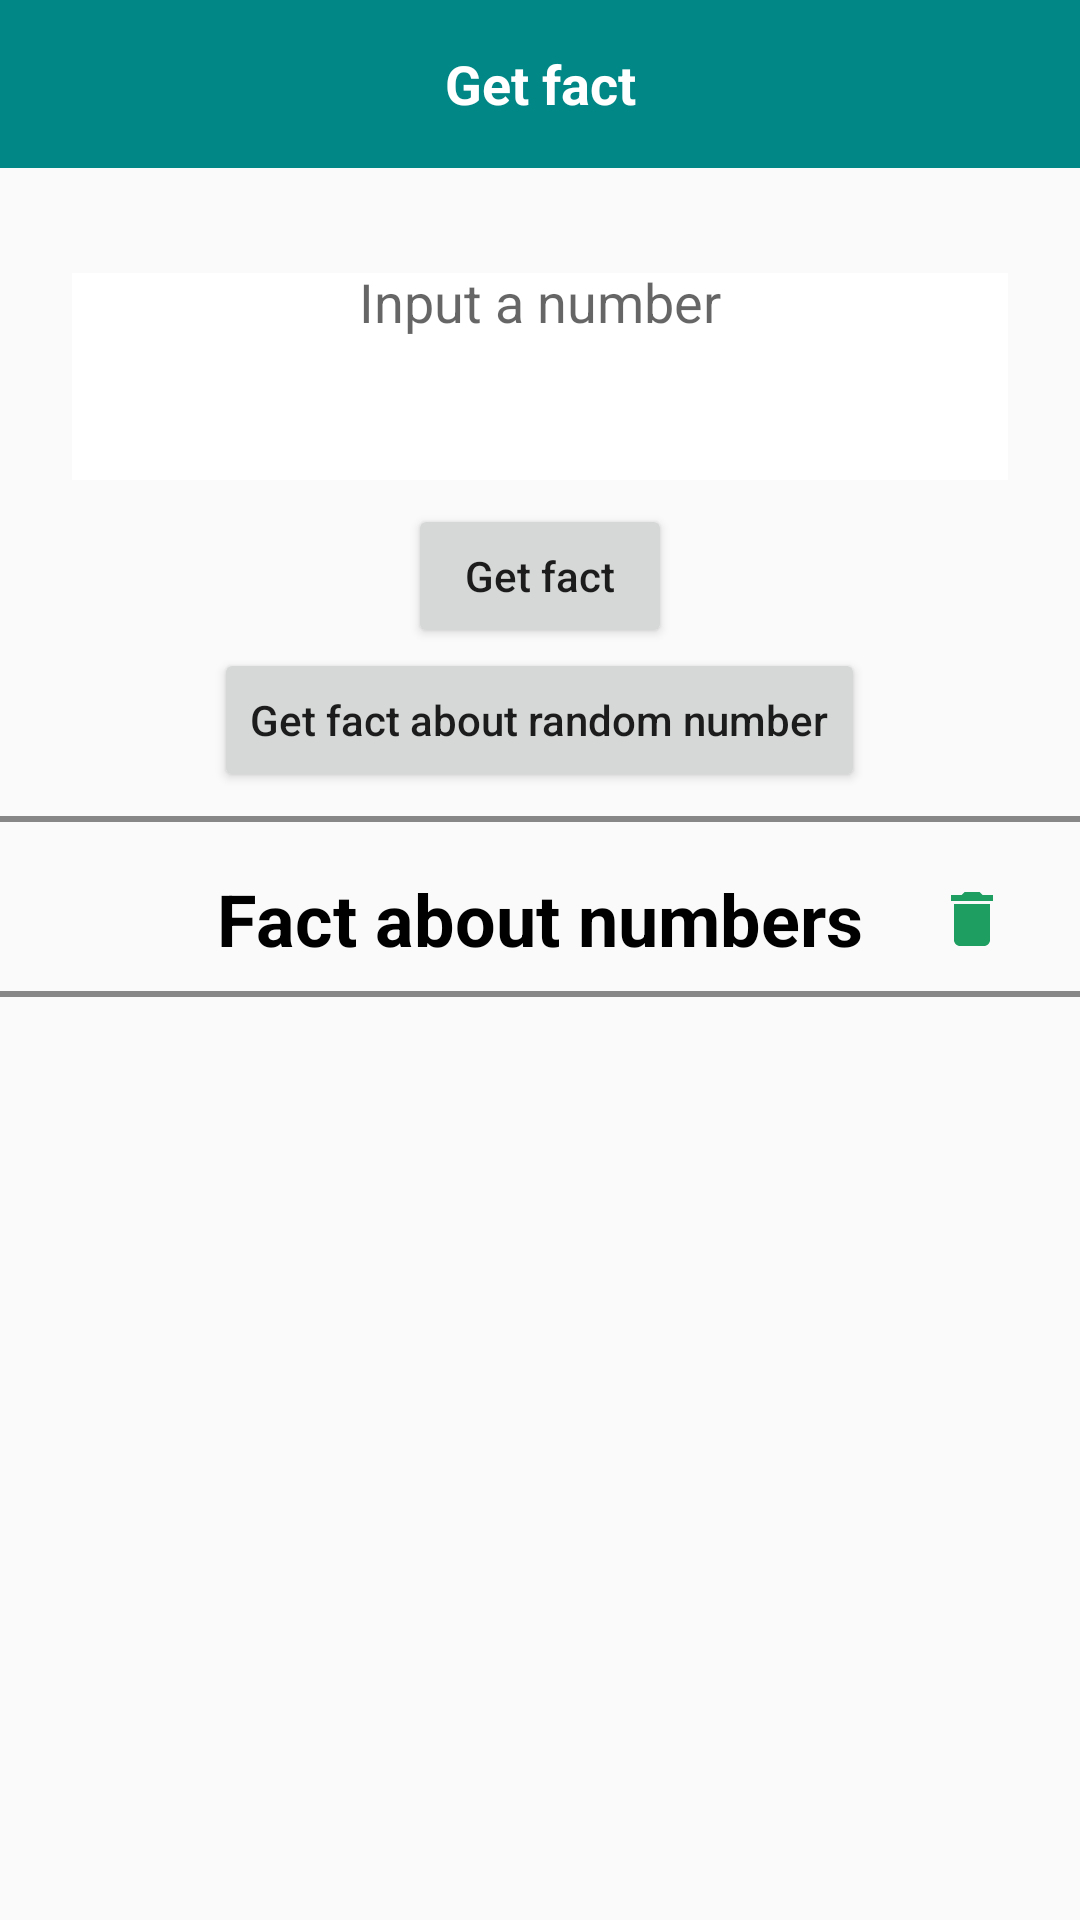

Icon click points for this 1080*1920 phone screenshot, format [x,y]:
bucket erase: [972,919]
